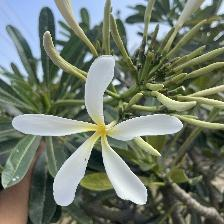champaka: (13, 56, 187, 210)
